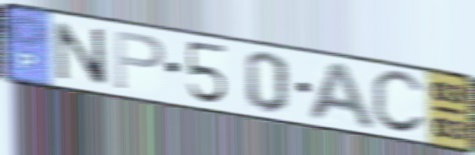0: (243, 49, 292, 117)
5: (184, 38, 230, 105)
A: (303, 60, 380, 133)
C: (369, 69, 429, 137)
N: (52, 19, 112, 89)
P: (111, 28, 168, 93)
